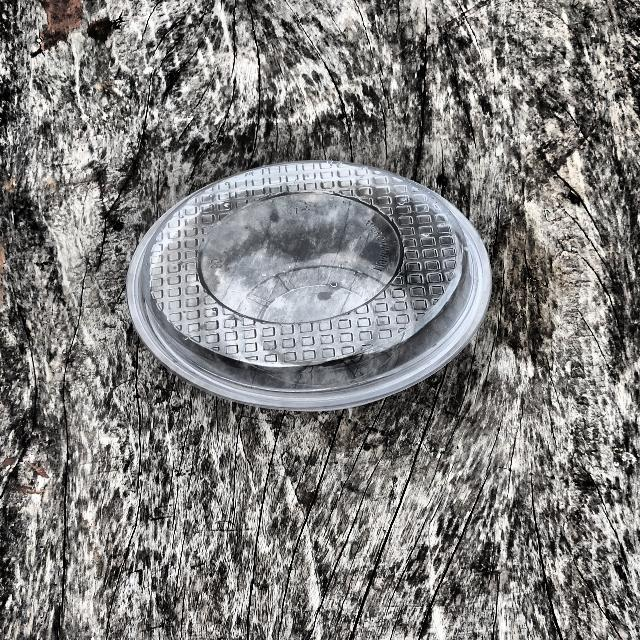plastic container: (108, 152, 515, 425)
